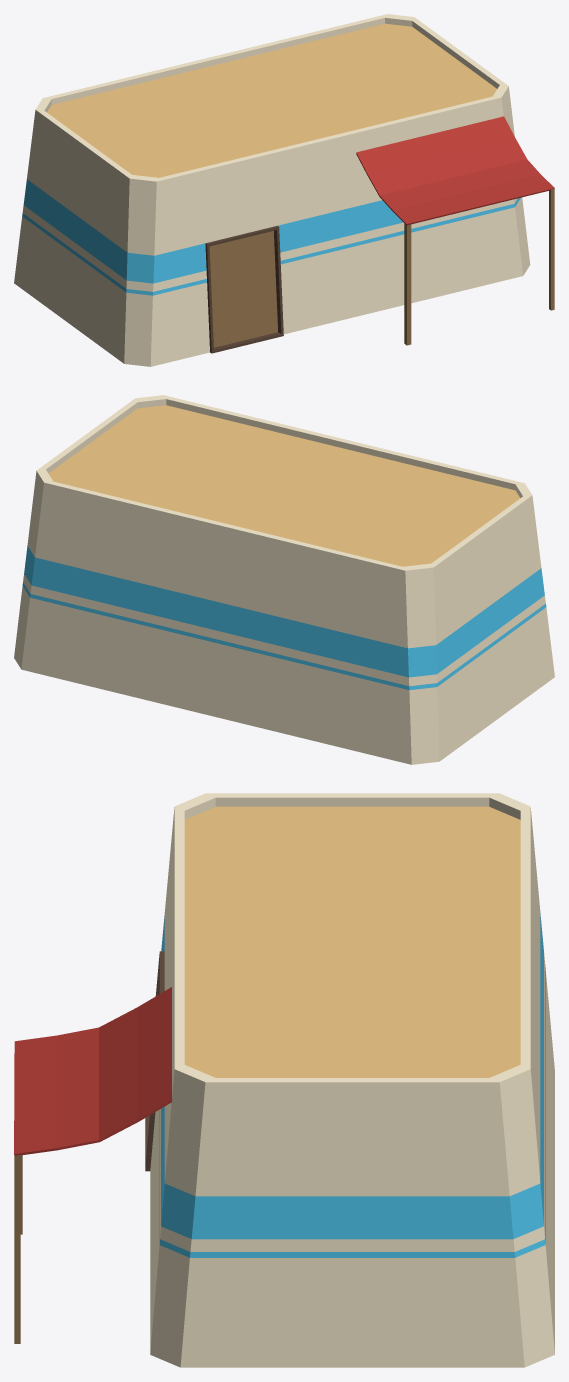
Rendered from Long_house_with_sunshade.fbx.
3 renders of one model, top to bottom at view 1: azimuth 30°, elevation 25°; view 2: azimuth 150°, elevation 25°; view 3: azimuth 270°, elevation 25°, orthographic. The views are drawn at different scales.
Parts seen in each view (by area): view 1: Long house with sunshade; view 2: Long house with sunshade; view 3: Long house with sunshade.
Part boxes in pixels (x1,y1,x2,y2): Long house with sunshade: (14, 14, 554, 366); Long house with sunshade: (14, 395, 554, 764); Long house with sunshade: (14, 793, 554, 1367).
Bounding box in the file's own units: 1592 × 660 × 1176.
